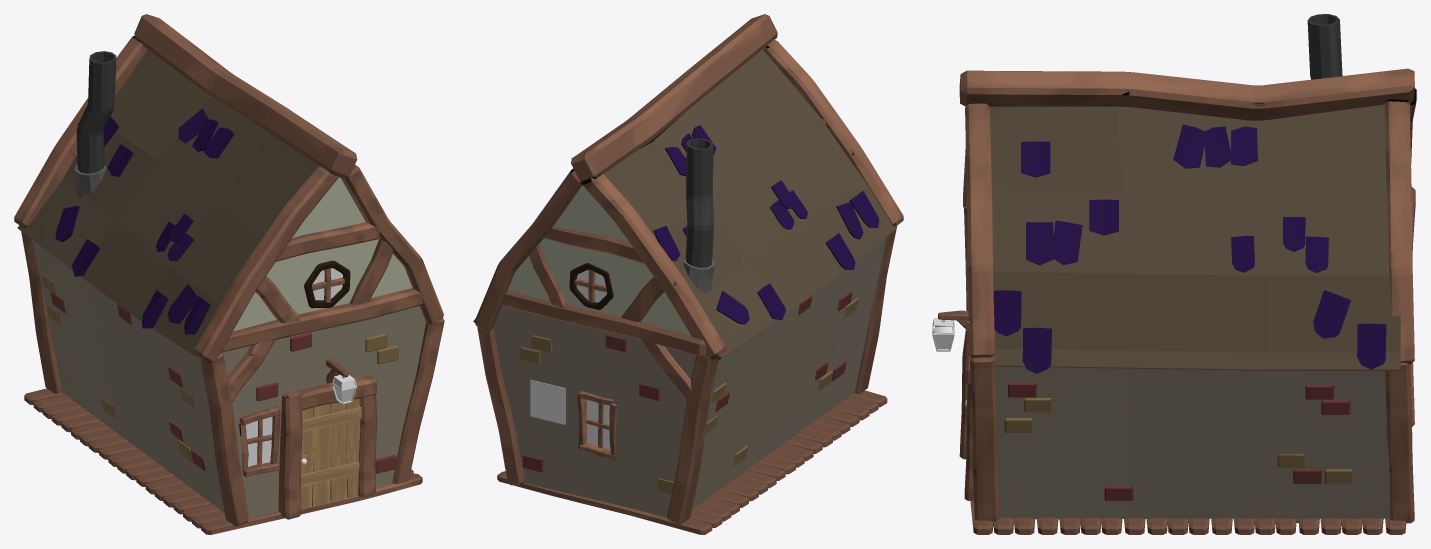
The model's file is cottage-interior.fbx.
3 views of the same model, side by side, from view 1: azimuth 30°, elevation 25°; view 2: azimuth 150°, elevation 25°; view 3: azimuth 270°, elevation 25° (orthographic). The views are drawn at different scales.
Parts seen in each view (by area): view 1: Plane.031, Plane.032, Plane.028, Cube.231, Plane.040, Cube.214, Cube.211, Cylinder.002, Cube.212, Cube.226, Cube.213, Cube.210 (+25 smaller); view 2: Plane.031, Plane.033, Plane.032, Cube.231, Plane.041, Cube.226, Cylinder.002, Cube.223, Cube.214, Cube.224, Cube.225, Cube.222 (+14 smaller); view 3: Plane.029, Plane.030, Cube.231, Cube.213, Cube.225, Cube.210, Cube.222, Cylinder.002, Cube.285, Cube.312, Cube.310, Cube.286 (+13 smaller).
Part boxes in pixels (x1,y1,x2,y2): Plane.031: (17,49,319,358); Plane.032: (32,240,224,512); Plane.028: (222,306,425,518); Cube.231: (134,14,357,178); Plane.040: (233,177,412,331); Cube.214: (194,166,338,363); Cube.211: (200,352,249,526); Cylinder.002: (74,51,116,198); Cube.212: (221,288,423,352); Cube.226: (14,36,147,228); Cube.213: (342,164,443,324); Cube.210: (392,318,444,484); Plane.031: (604,49,896,360); Plane.033: (493,305,695,517); Plane.032: (692,237,886,509); Cube.231: (571,14,777,181); Plane.041: (507,185,690,334); Cube.226: (582,173,725,360); Cylinder.002: (683,138,714,292); Cube.223: (667,356,718,524); Cube.214: (763,39,903,226); Cube.224: (501,290,705,357); Cube.225: (474,168,582,332); Cube.222: (477,326,525,485); Plane.029: (990,104,1400,370); Plane.030: (995,366,1390,519); Cube.231: (959,68,1414,120); Cube.213: (965,103,994,357); Cube.225: (1384,99,1414,364); Cube.210: (970,355,999,526); Cube.222: (1385,363,1414,523); Cylinder.002: (1307,14,1342,79); Cube.285: (1313,290,1350,338); Cube.312: (1357,323,1386,369); Cube.310: (1022,327,1051,373); Cube.286: (993,290,1021,336).
Size of the model in its own units: 603 by 815 by 850.
